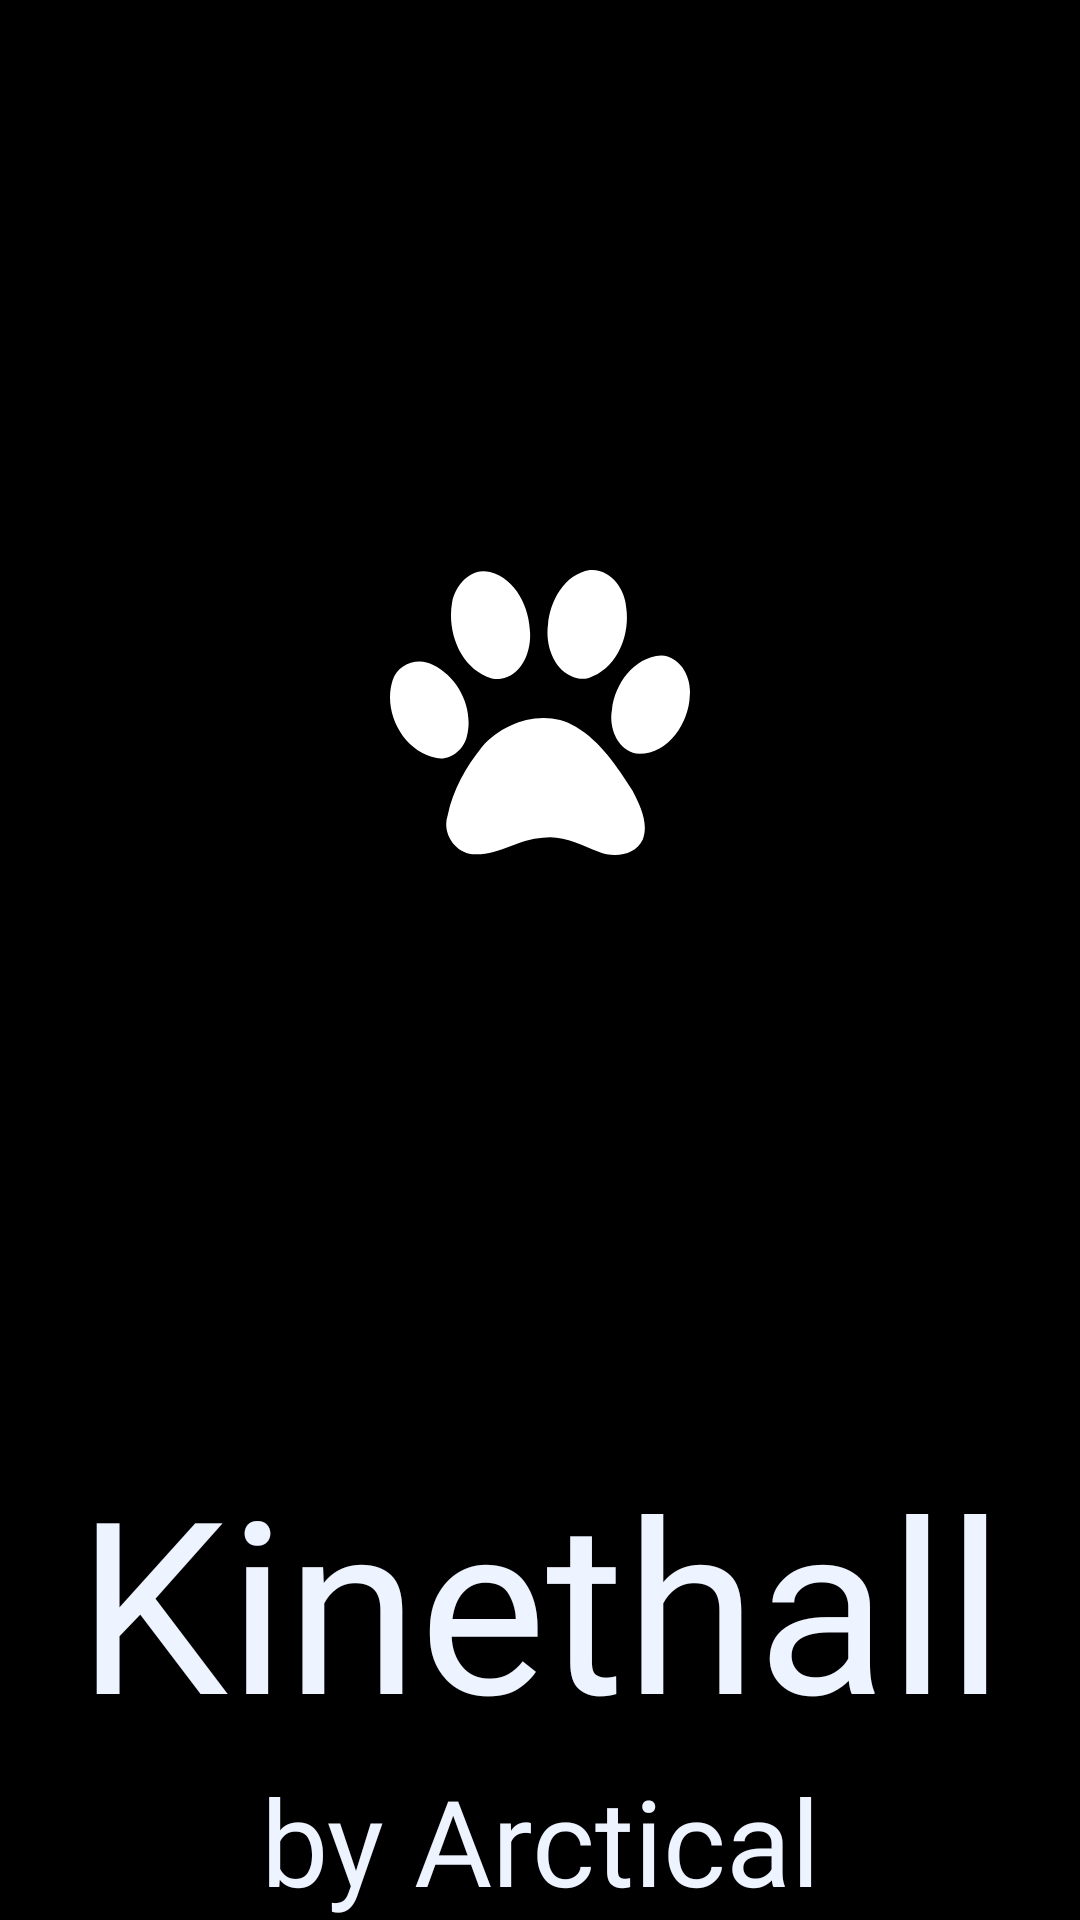

Point at icon controls on the screen. Image size 1080px×1920px, points as (x,y).
paw print: (540,712)
